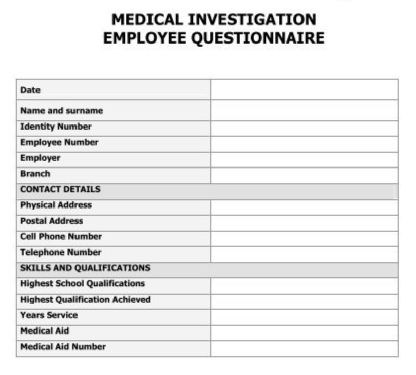textbox: (207, 74, 403, 103), (206, 96, 404, 124), (207, 212, 403, 236), (207, 305, 402, 329), (207, 196, 402, 219), (208, 321, 403, 344), (206, 117, 402, 139), (206, 229, 404, 250), (207, 134, 403, 155), (206, 165, 402, 186), (206, 292, 402, 313), (208, 244, 403, 265), (207, 276, 402, 297), (208, 339, 402, 360), (208, 150, 402, 170)
